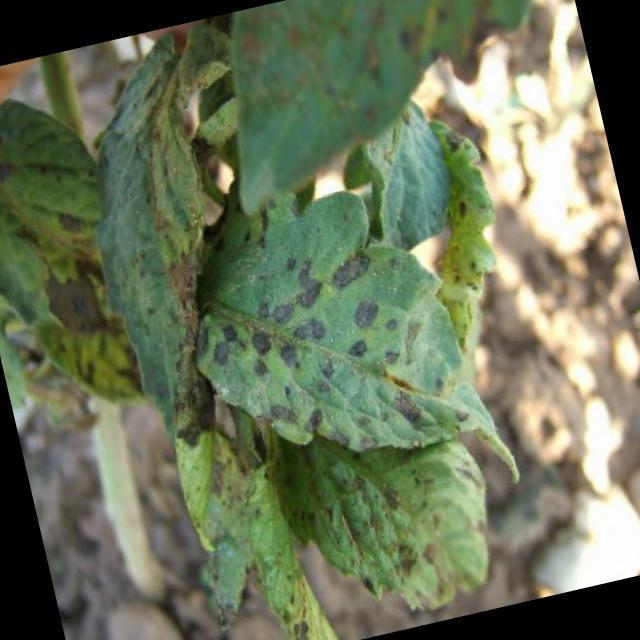Tomato leaf bacterial spot: (190, 224, 487, 478), (284, 429, 508, 620)
